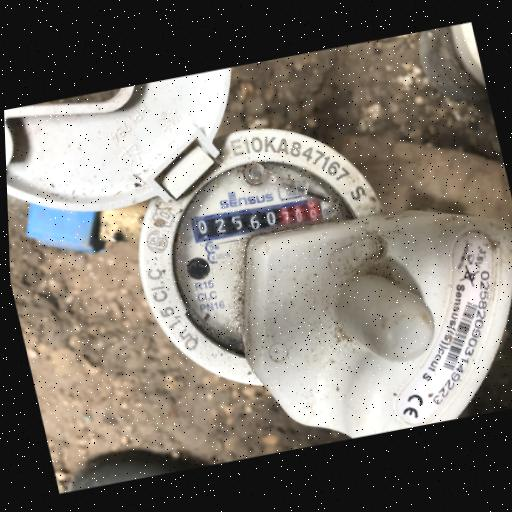0: (196, 219, 212, 240), (264, 208, 279, 228), (293, 205, 306, 225)
2: (212, 217, 228, 237)
5: (229, 213, 245, 234)
6: (248, 211, 262, 231)
7: (278, 206, 293, 226)
9: (305, 198, 321, 224)
border_water_meter_number: (188, 192, 325, 247)
